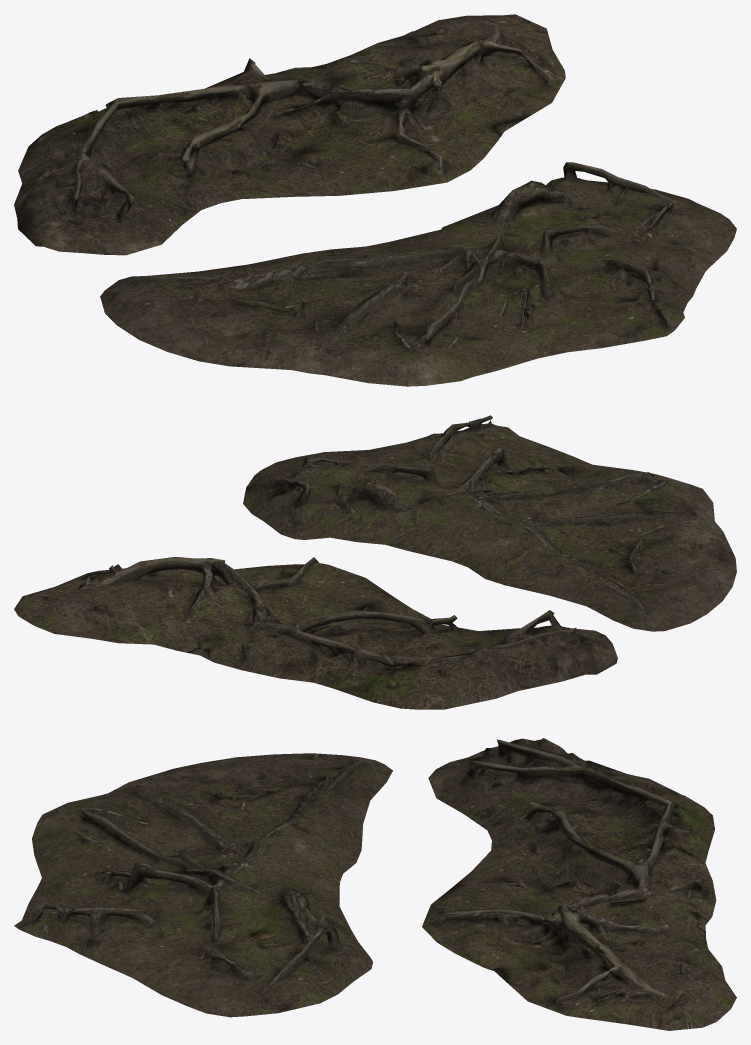
Rendered from pine_roots_lod.glb.
The picture shows the model from 3 angles, top to bottom: view 1: azimuth 30°, elevation 25°; view 2: azimuth 150°, elevation 25°; view 3: azimuth 270°, elevation 25°; orthographic projection. The views are drawn at different scales.
Parts seen in each view (by area): view 1: pine_roots_b, pine_roots_a; view 2: pine_roots_b, pine_roots_a; view 3: pine_roots_b, pine_roots_a.
Part boxes in pixels (bbox=[...]): pine_roots_b: bbox=[100, 162, 736, 386]; pine_roots_a: bbox=[14, 14, 565, 255]; pine_roots_b: bbox=[243, 415, 736, 631]; pine_roots_a: bbox=[14, 557, 617, 709]; pine_roots_b: bbox=[14, 753, 392, 1017]; pine_roots_a: bbox=[422, 738, 736, 1030].
Size of the model in its own units: 1.77 by 0.1538 by 1.89.
Materials: 2 (2 with a texture image).
